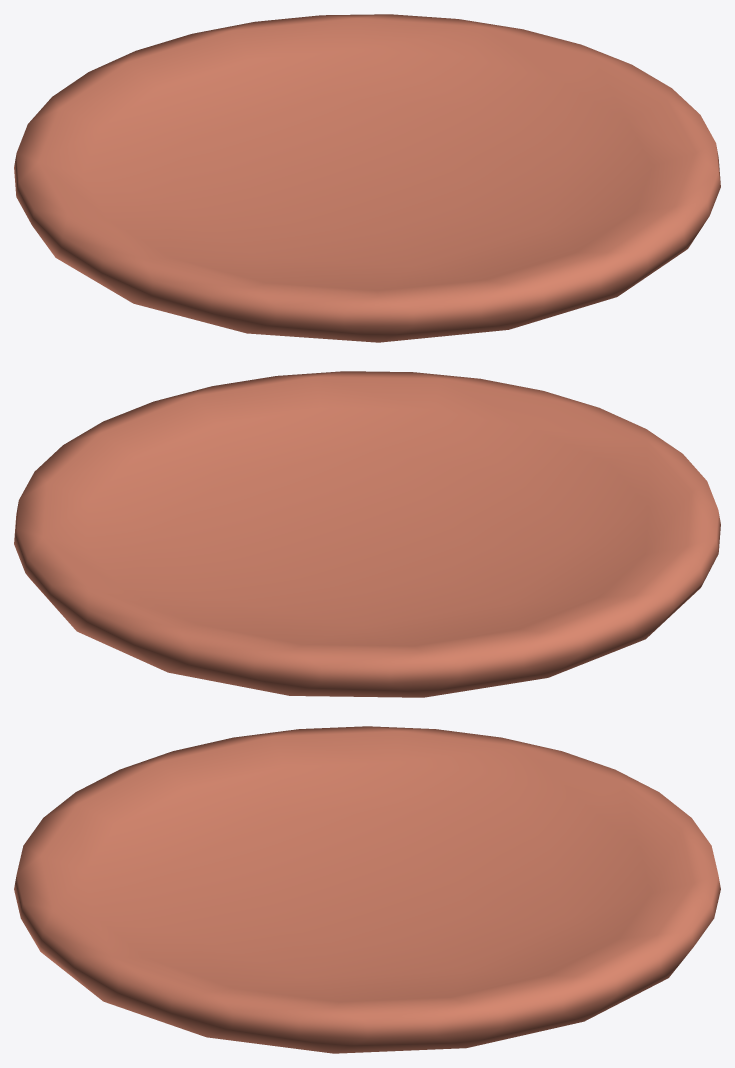
The model's file is ClayDish_03 1.fbx.
The picture shows the model from 3 angles, top to bottom: view 1: azimuth 30°, elevation 25°; view 2: azimuth 150°, elevation 25°; view 3: azimuth 270°, elevation 25°; orthographic projection.
Visible parts, largest first — view 1: ClayDish_03; view 2: ClayDish_03; view 3: ClayDish_03.
Part boxes in pixels (left/top/right/bottom): ClayDish_03: left=14, top=14, right=720, bottom=342; ClayDish_03: left=14, top=371, right=720, bottom=697; ClayDish_03: left=14, top=726, right=720, bottom=1053.
Size of the model in its own units: 31.25 by 4 by 31.25.
